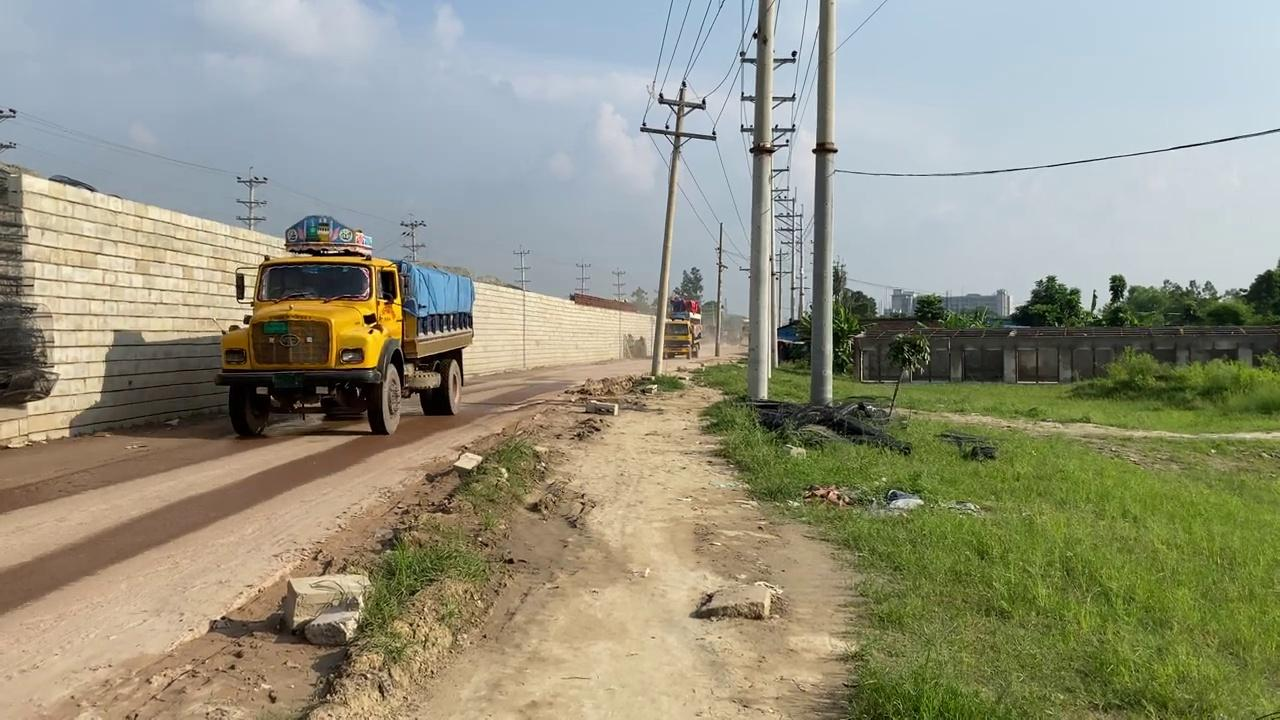Garbage: (744, 396, 912, 456)
Muddy road: (0, 341, 747, 718)
Pole: (640, 80, 716, 377), (746, 0, 777, 401), (809, 0, 837, 406)
Rickshaw: (407, 361, 865, 718)
Tree: (213, 213, 475, 437), (669, 297, 702, 339)
Upstairs: (0, 164, 665, 445)
